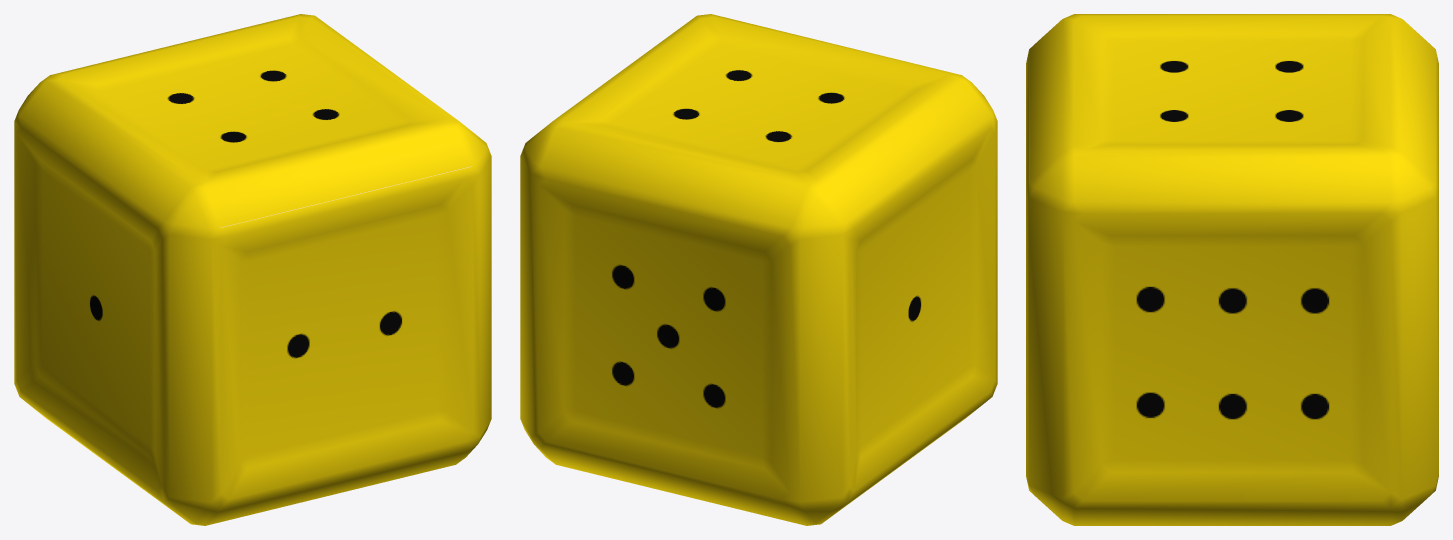
Rendered from dice.fbx.
The picture shows the model from 3 angles, left to right: view 1: azimuth 30°, elevation 25°; view 2: azimuth 150°, elevation 25°; view 3: azimuth 270°, elevation 25°; orthographic projection. The views are drawn at different scales.
Parts seen in each view (by area): view 1: Cube; view 2: Cube; view 3: Cube.
Part boxes in pixels (x1,y1,x2,y2): Cube: (14, 14, 491, 525); Cube: (520, 14, 997, 525); Cube: (1026, 14, 1438, 525).
Bounding box in the file's own units: 198 × 198 × 198.
